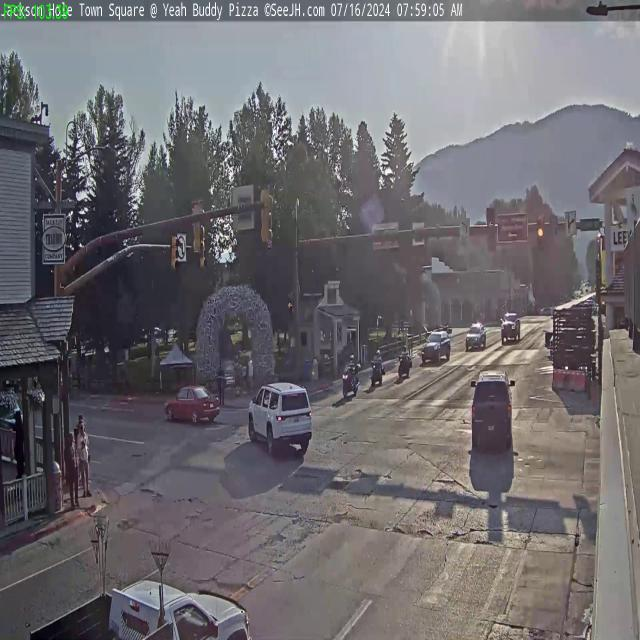motorcycle: (342, 364, 360, 399), (397, 346, 412, 378), (370, 356, 385, 386)
pickup: (32, 573, 255, 640), (500, 312, 520, 344)
sedan: (163, 384, 220, 424), (420, 329, 450, 363), (464, 321, 486, 351)
suv: (248, 380, 312, 456)
traffic light: (260, 189, 272, 244), (536, 214, 545, 248), (170, 236, 177, 268), (287, 292, 294, 320)
truck: (470, 368, 515, 452)
